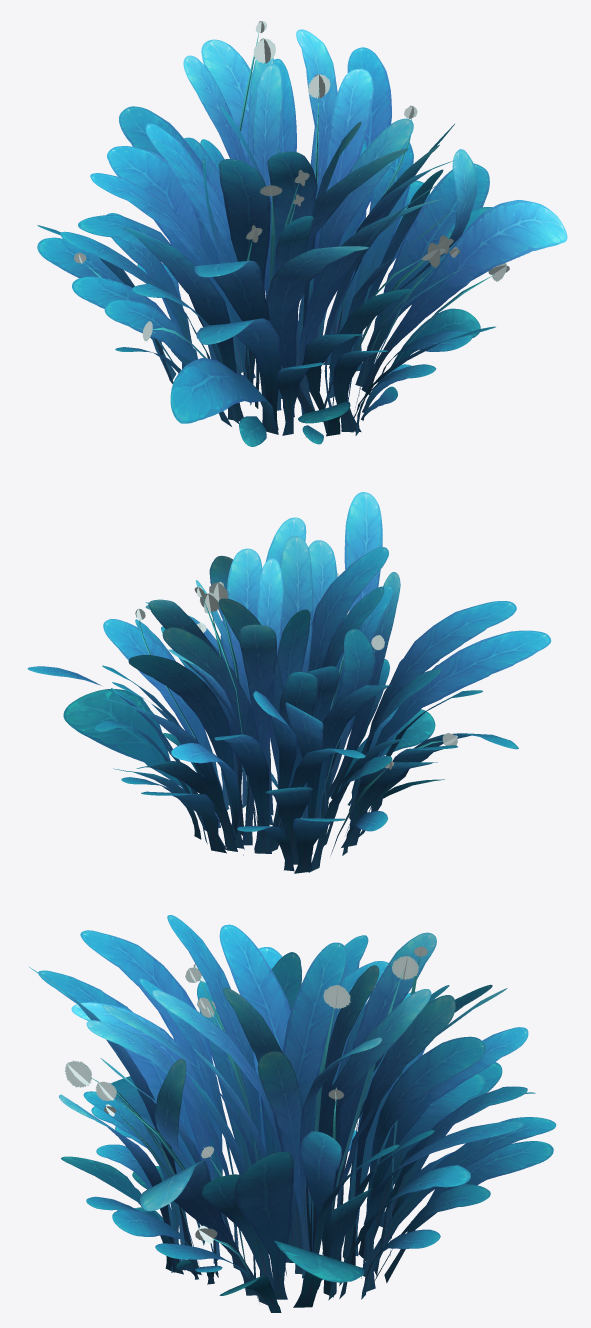
The model's file is Homeworld_Exterior_Xm_Plant_Grass_QqstyleSml_01_Lod0.fbx.
The picture shows the model from 3 angles, top to bottom: view 1: azimuth 30°, elevation 25°; view 2: azimuth 150°, elevation 25°; view 3: azimuth 270°, elevation 25°; orthographic projection. The views are drawn at different scales.
Parts seen in each view (by area): view 1: Homeworld_Exterior_Xm_Plant_Grass_QqstyleSml_01_Lod0; view 2: Homeworld_Exterior_Xm_Plant_Grass_QqstyleSml_01_Lod0; view 3: Homeworld_Exterior_Xm_Plant_Grass_QqstyleSml_01_Lod0.
Part boxes in pixels (x1,y1,x2,y2): Homeworld_Exterior_Xm_Plant_Grass_QqstyleSml_01_Lod0: [37, 21, 567, 446]; Homeworld_Exterior_Xm_Plant_Grass_QqstyleSml_01_Lod0: [27, 492, 551, 873]; Homeworld_Exterior_Xm_Plant_Grass_QqstyleSml_01_Lod0: [28, 915, 556, 1312].
Bounding box in the file's own units: 1.64 × 1.05 × 1.57.
1 material, 1 textured.
